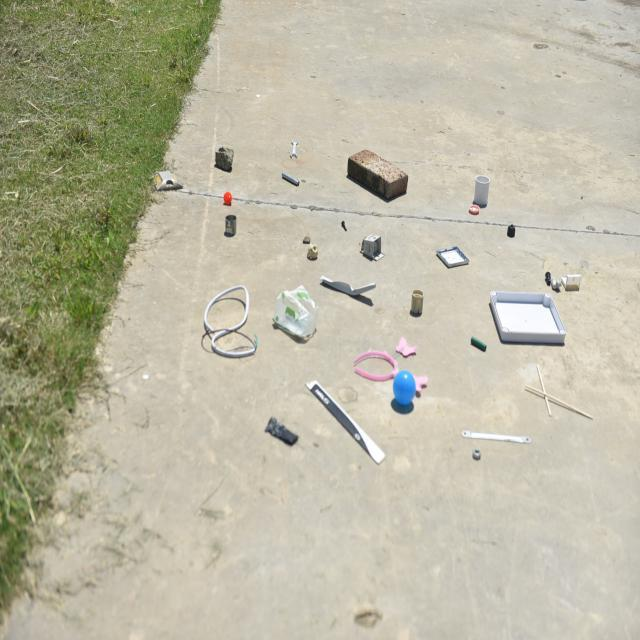Debris: (309, 382, 387, 463), (489, 289, 564, 343), (203, 278, 250, 362), (518, 374, 595, 424), (346, 144, 409, 202), (352, 338, 427, 380), (272, 284, 319, 344), (319, 270, 378, 302), (459, 426, 534, 448), (146, 163, 183, 200), (218, 189, 242, 239), (356, 224, 389, 260), (540, 266, 587, 290), (265, 414, 298, 444), (210, 143, 240, 175), (406, 284, 430, 322), (392, 369, 415, 408), (438, 248, 473, 273), (473, 174, 490, 208), (275, 166, 299, 189), (466, 329, 491, 347), (294, 232, 312, 257), (463, 198, 481, 218), (286, 134, 298, 160), (506, 219, 516, 244), (336, 221, 354, 233), (475, 446, 485, 462), (306, 246, 322, 252)
